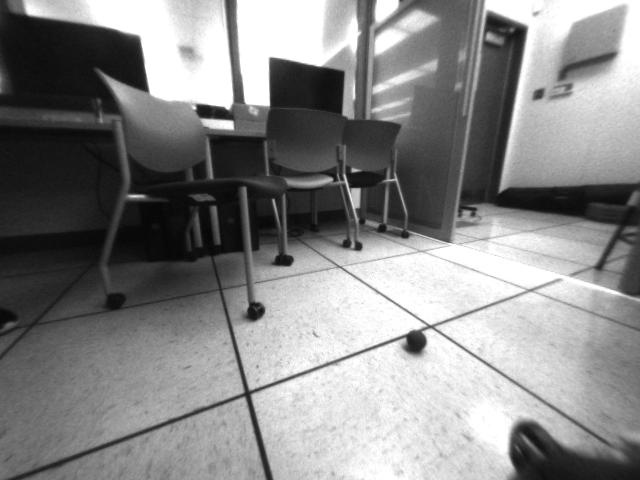dogtoy: (398, 323, 433, 359)
